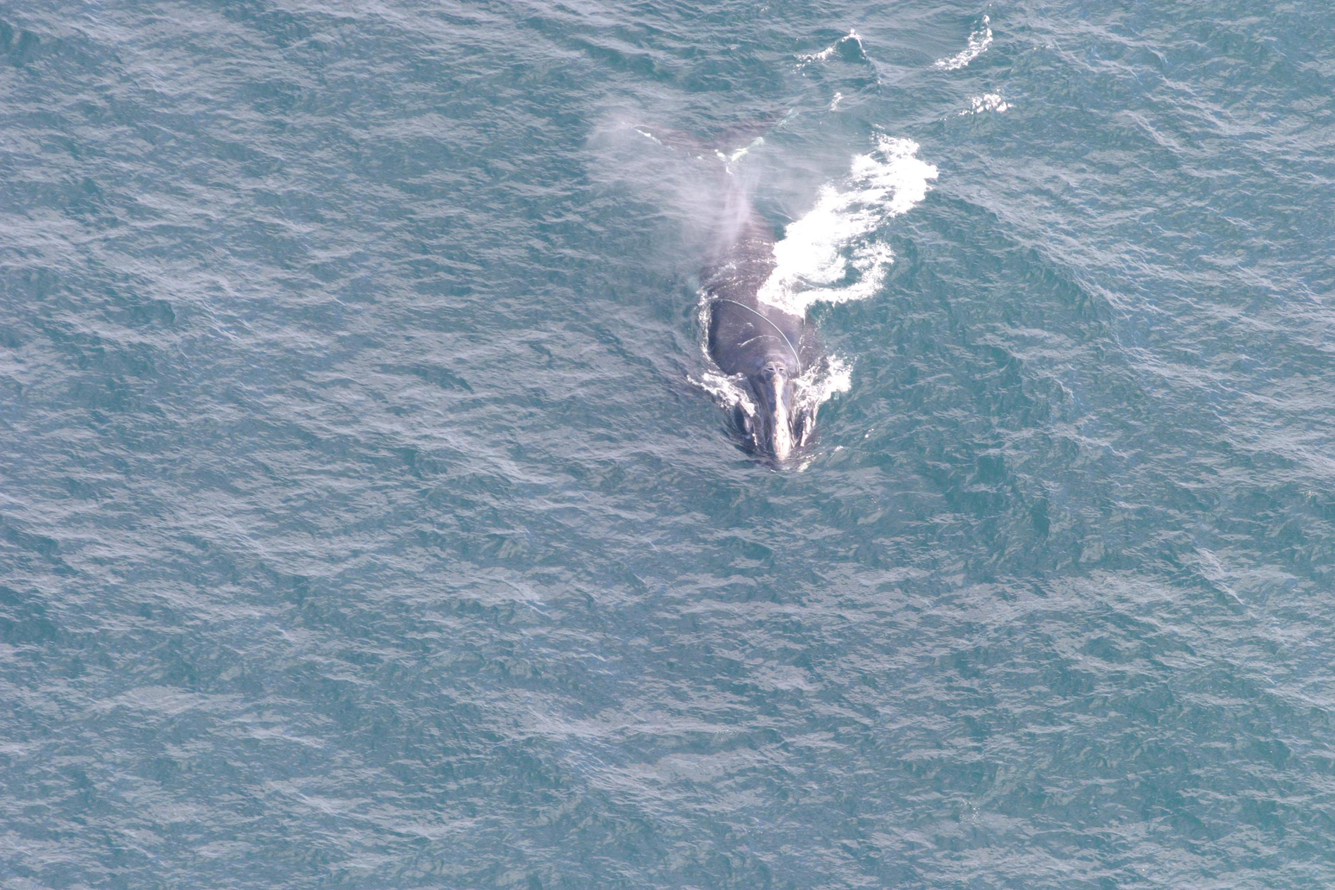whale: (599, 94, 857, 486)
